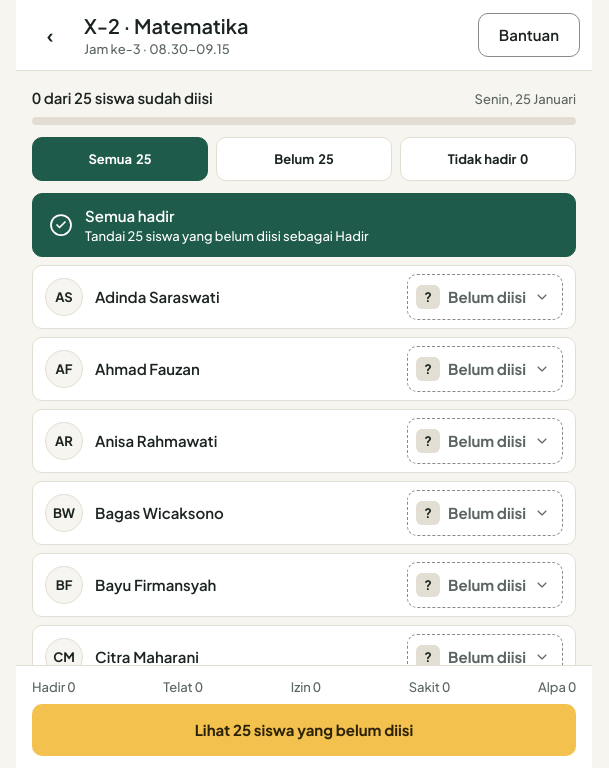
Test: step 3: Semua hadir › is hidden while the Tidak hadir filter is on
Click the button "Tidak hadir 0": (488, 159) [400,137,576,181]
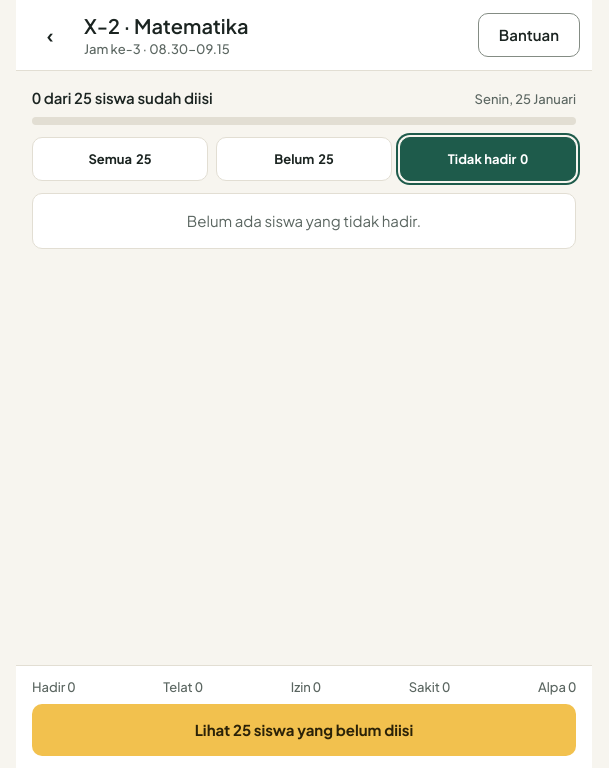
Expected: the button "Semua hadir" is gone
